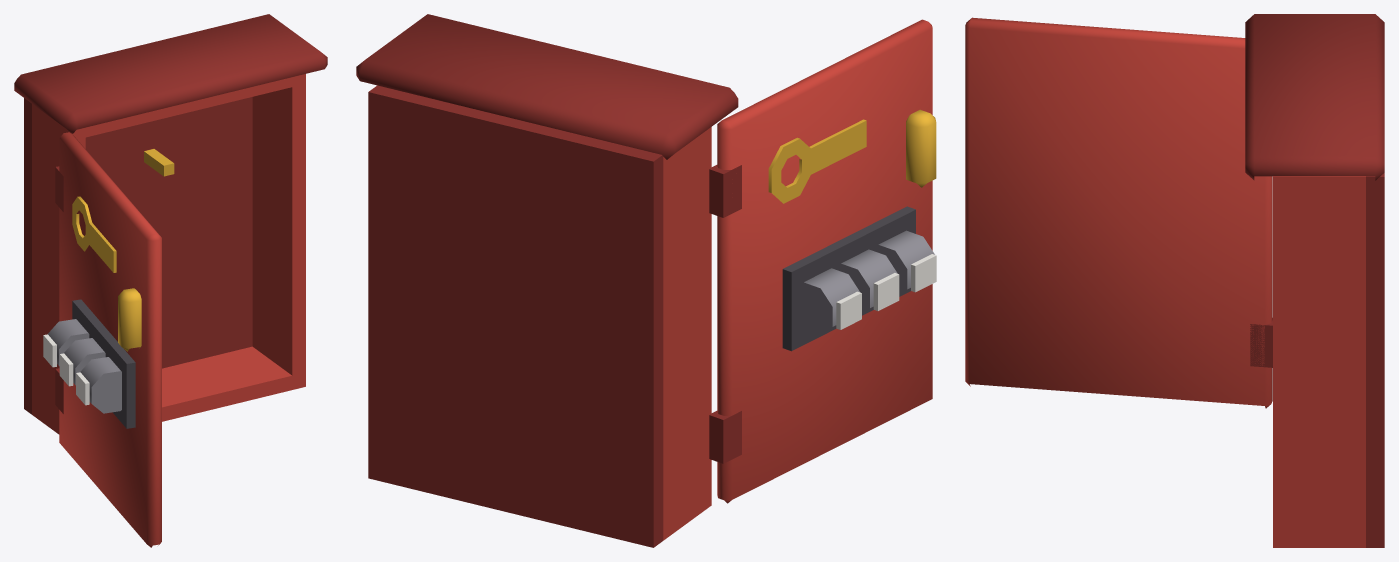
Rendered from key_box_open.glb.
The picture shows the model from 3 angles, left to right: view 1: azimuth 30°, elevation 25°; view 2: azimuth 150°, elevation 25°; view 3: azimuth 270°, elevation 25°; orthographic projection. The views are drawn at different scales.
Visible parts, largest first — view 1: key_box_open; view 2: key_box_open; view 3: key_box_open.
Part boxes in pixels (bbox=[...]): key_box_open: bbox=[14, 14, 327, 547]; key_box_open: bbox=[356, 14, 936, 547]; key_box_open: bbox=[965, 14, 1384, 547].
Bounding box in the file's own units: 0.4842 × 0.47 × 0.4508.
Materials: 1 (1 with a texture image).
